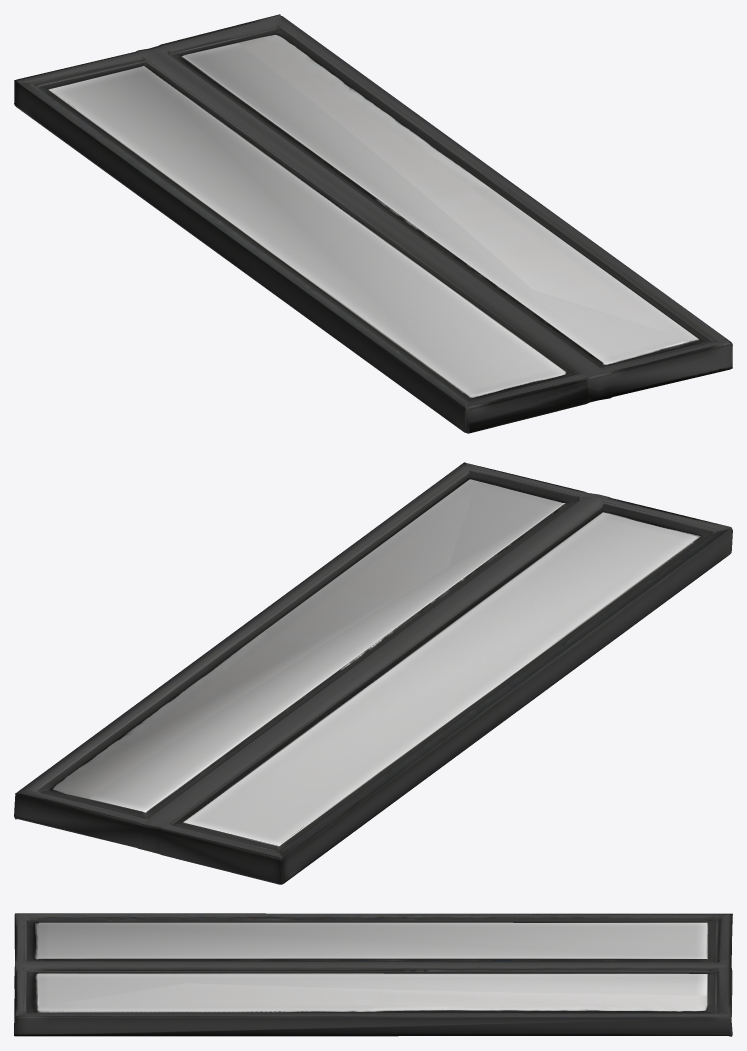
The model's file is ENV_light_v001.fbx.
3 renders of one model, top to bottom at view 1: azimuth 30°, elevation 25°; view 2: azimuth 150°, elevation 25°; view 3: azimuth 270°, elevation 25°, orthographic. The views are drawn at different scales.
Parts seen in each view (by area): view 1: tripo_node_3ca51a28-144f-4232-ab3a-1d48e219c1cb; view 2: tripo_node_3ca51a28-144f-4232-ab3a-1d48e219c1cb; view 3: tripo_node_3ca51a28-144f-4232-ab3a-1d48e219c1cb.
Part boxes in pixels (x1=…): tripo_node_3ca51a28-144f-4232-ab3a-1d48e219c1cb: x1=14, y1=14, x2=732, y2=433; tripo_node_3ca51a28-144f-4232-ab3a-1d48e219c1cb: x1=14, y1=462, x2=732, y2=884; tripo_node_3ca51a28-144f-4232-ab3a-1d48e219c1cb: x1=14, y1=913, x2=732, y2=1036.
Bounding box in the file's own units: 34.82 × 3.5 × 101.
Materials: 1 (1 with a texture image).
